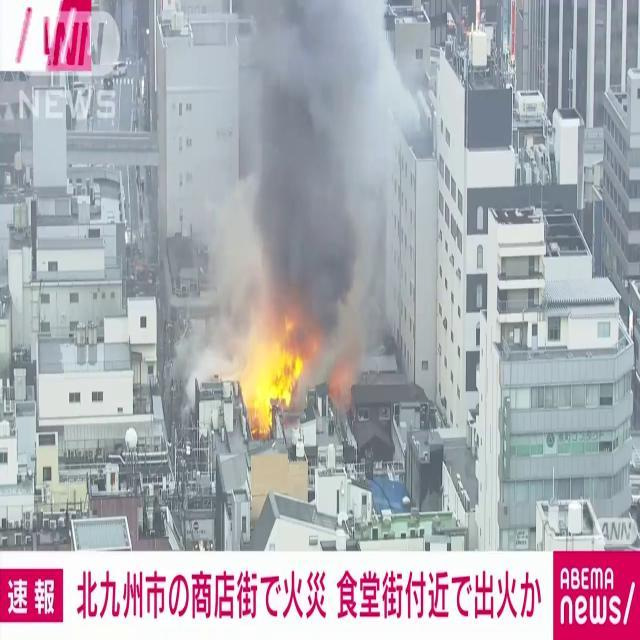Fire: (236, 312, 312, 433)
Smoke: (202, 0, 412, 362)
